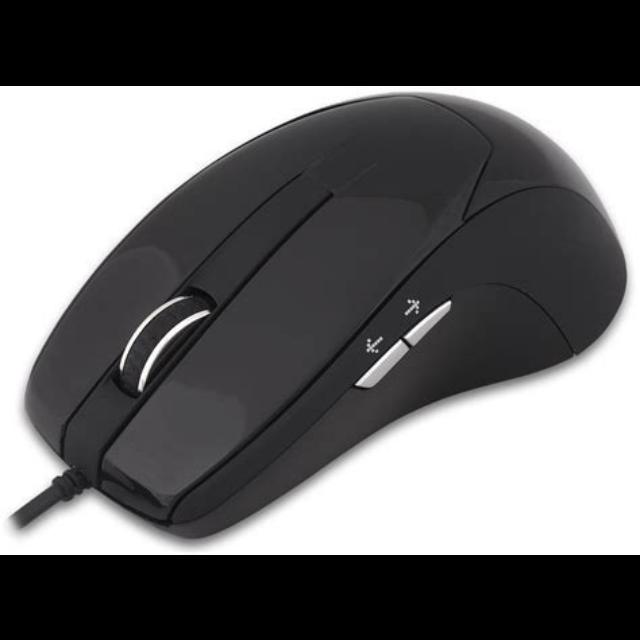Computer-Mouse: (23, 89, 631, 543)
